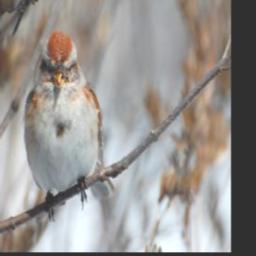Sparrow: (22, 27, 117, 228)
